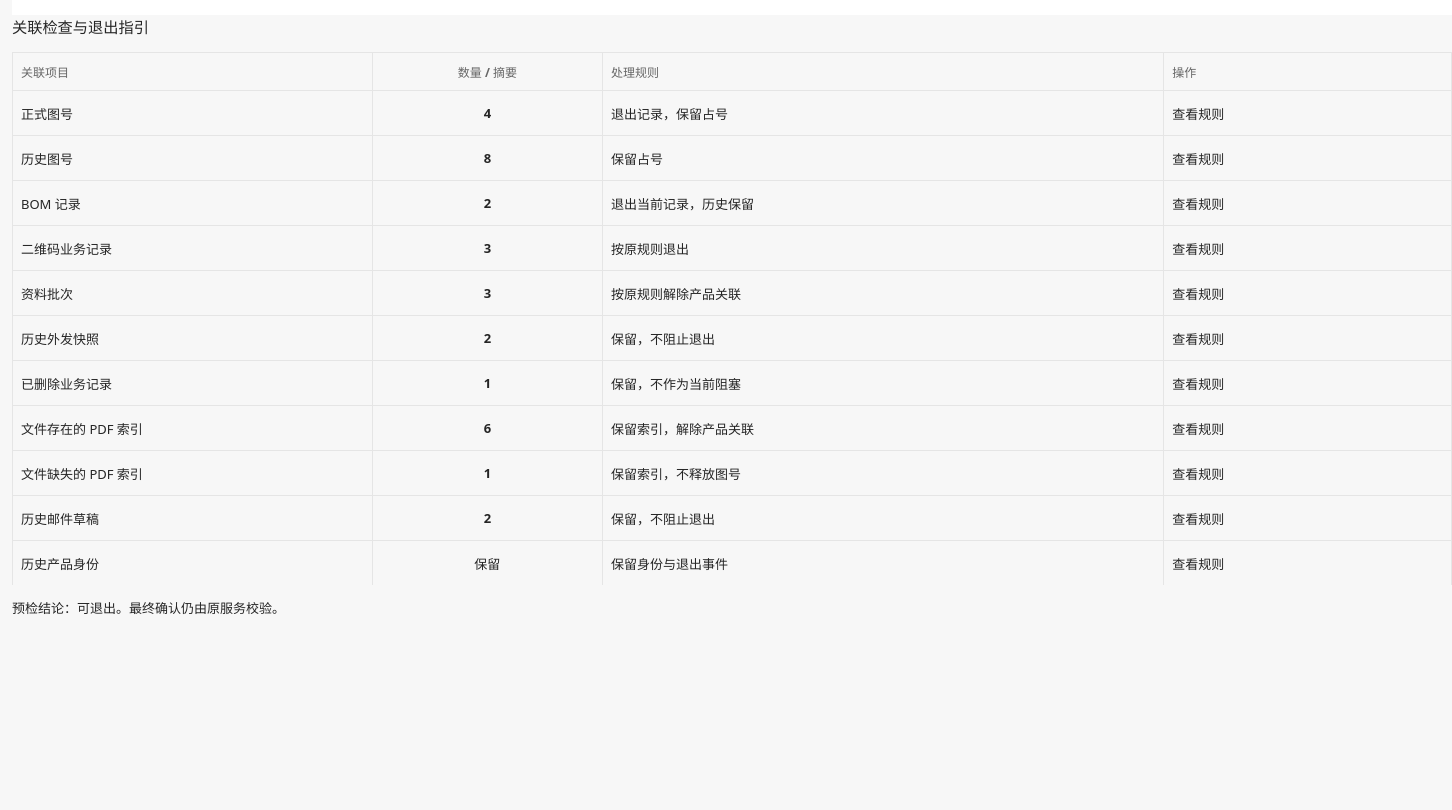
Scenario: real exit worksheet › does not turn owned BOM counts into blockers or offer historical deletion
The image size is (1452, 810).
Expected: the text "可退出" is shown, [77,599,116,617]
Click the button "查看规则" in the row of "BOM 记录" at (1198, 203), box [1172,189,1224,217]
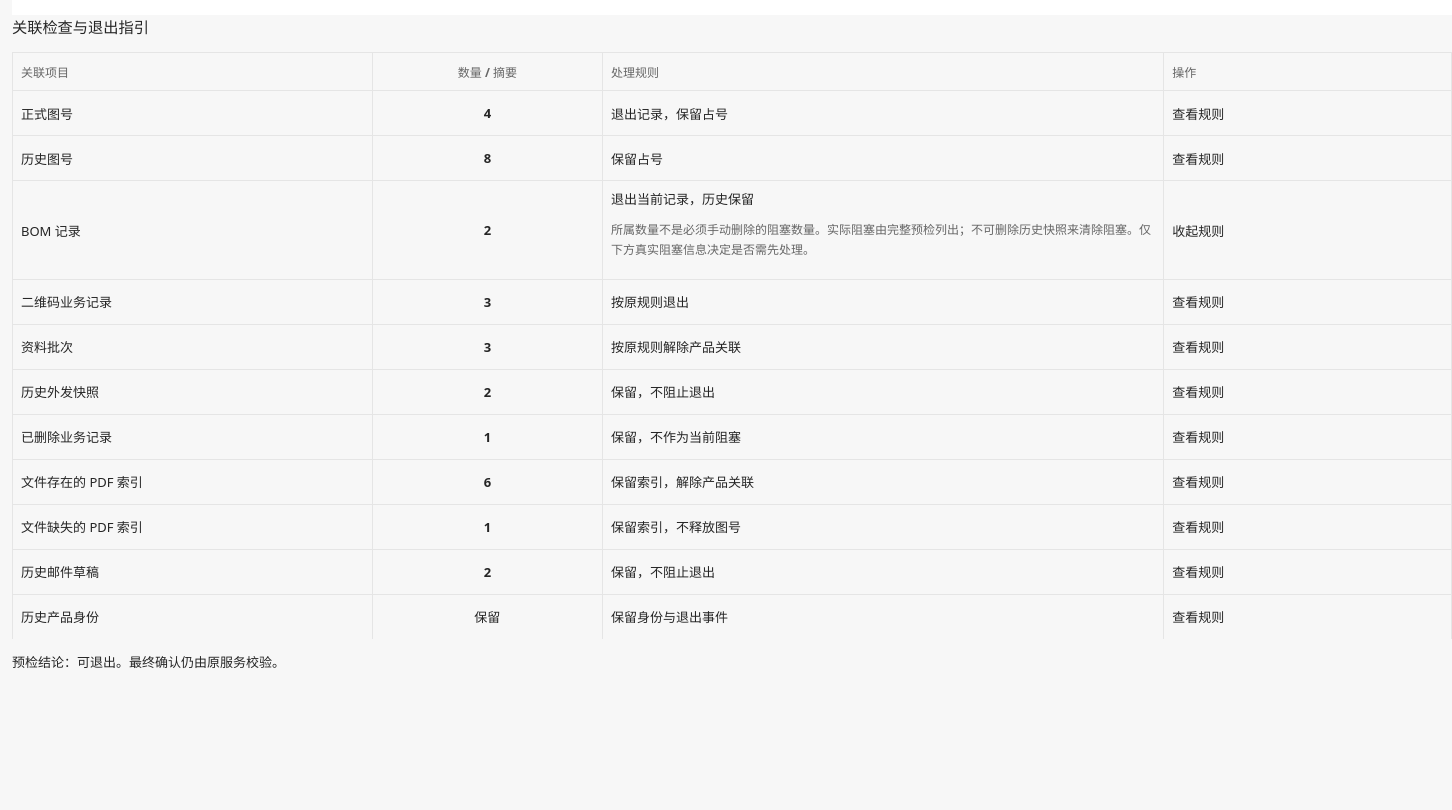
Now the text "所属数量不是必须手动删除的阻塞数量" is shown, box [611,221,1139,238]
